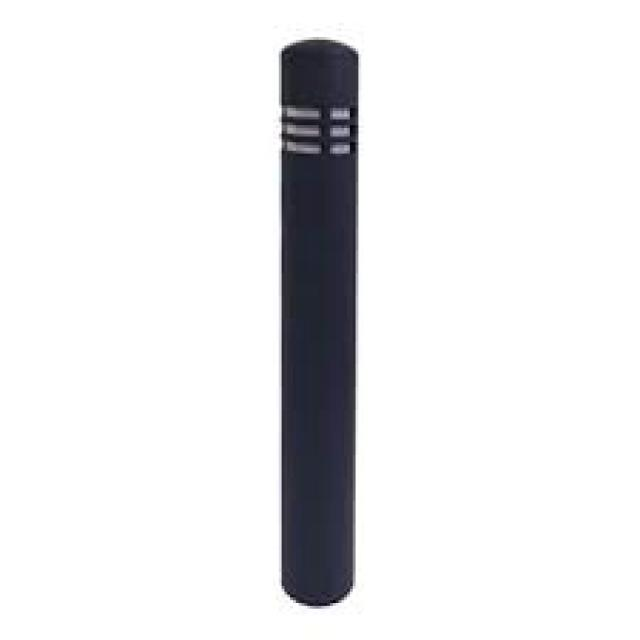bollard: (270, 34, 368, 613)
